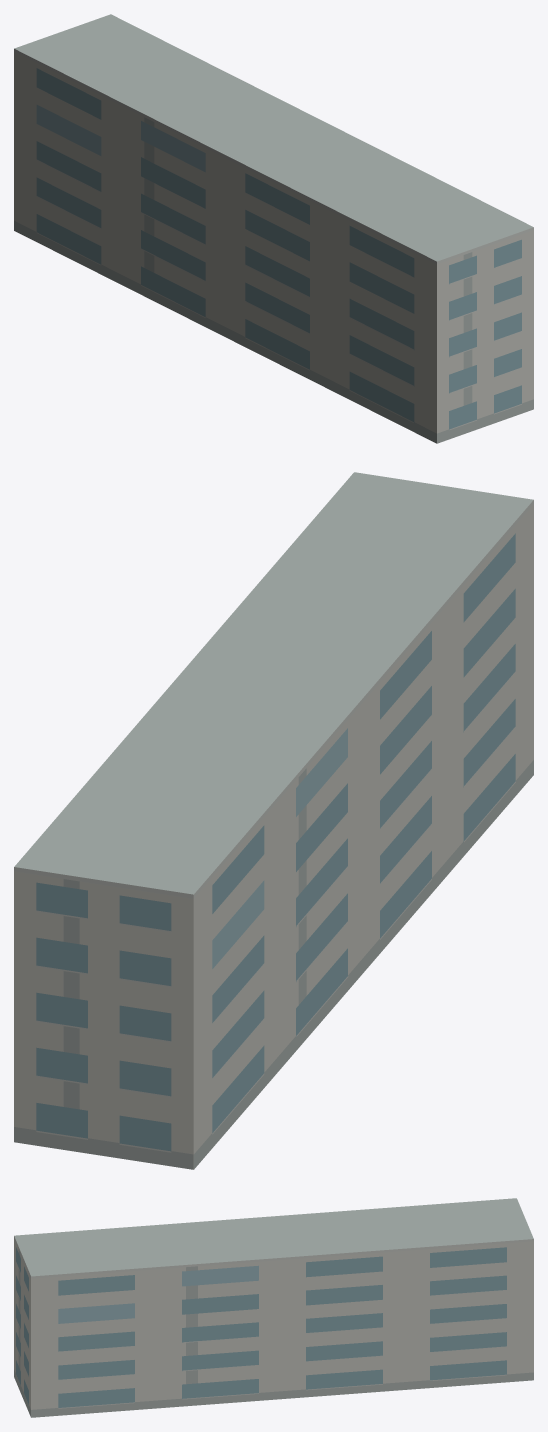
File: residential-bd39a89e-758e-4955-8575-96441d24cb8d.glb
3 renders of one model, top to bottom at view 1: azimuth 30°, elevation 25°; view 2: azimuth 150°, elevation 25°; view 3: azimuth 270°, elevation 25°, orthographic. The views are drawn at different scales.
Parts seen in each view (by area): view 1: residential-bd39a89e-758e-4955-8575-96441d24cb8d.tmp; view 2: residential-bd39a89e-758e-4955-8575-96441d24cb8d.tmp; view 3: residential-bd39a89e-758e-4955-8575-96441d24cb8d.tmp.
Boxes of the visible parts, <box> form: residential-bd39a89e-758e-4955-8575-96441d24cb8d.tmp: <box>14,14,533,443</box>; residential-bd39a89e-758e-4955-8575-96441d24cb8d.tmp: <box>14,472,533,1169</box>; residential-bd39a89e-758e-4955-8575-96441d24cb8d.tmp: <box>14,1198,533,1417</box>.
Size of the model in its own units: 18.14 by 15.25 by 50.85.
